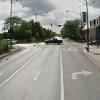Tree: (4, 13, 43, 44)
